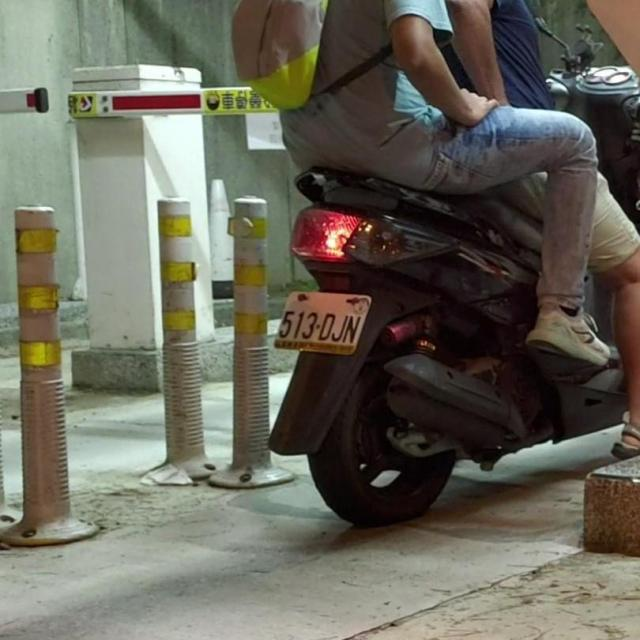W: (270, 284, 376, 357)
